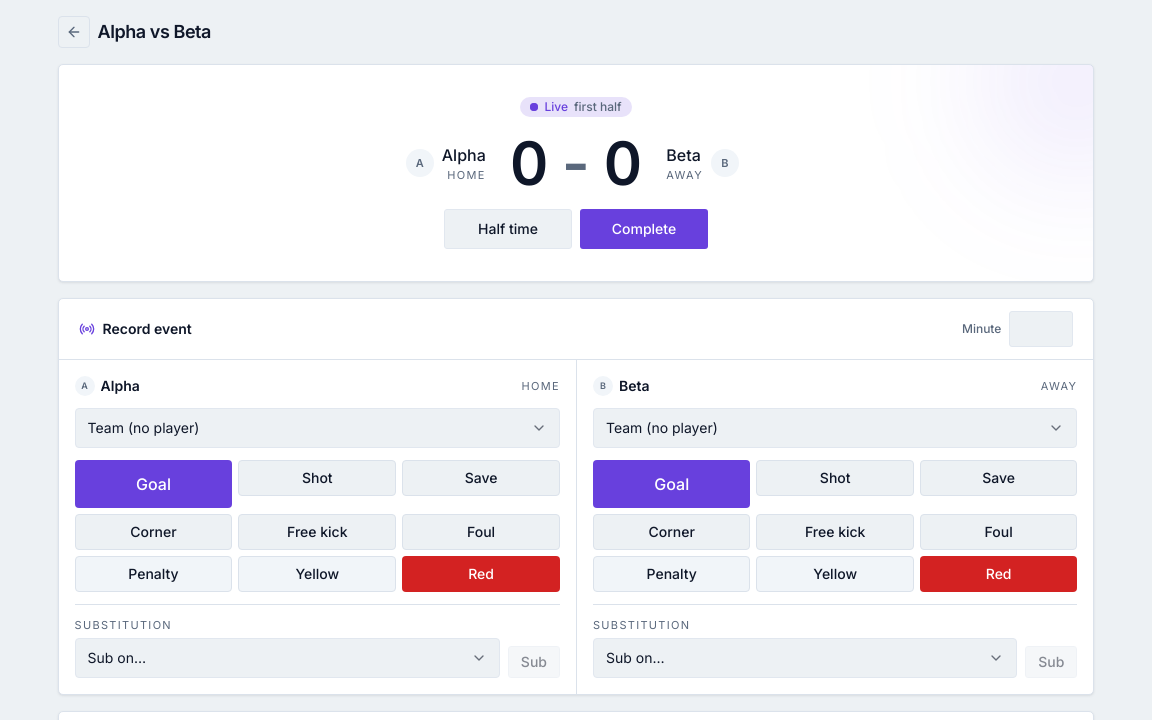
Scenario: MatchConsolePage › surfaces a rejected event as a visible error (no silent failures)
The image size is (1152, 720).
What coordinates should you click on to do the following:
click the 1st button "Goal"
I would click on:
 (154, 484)
Its box is [75, 460, 232, 508].
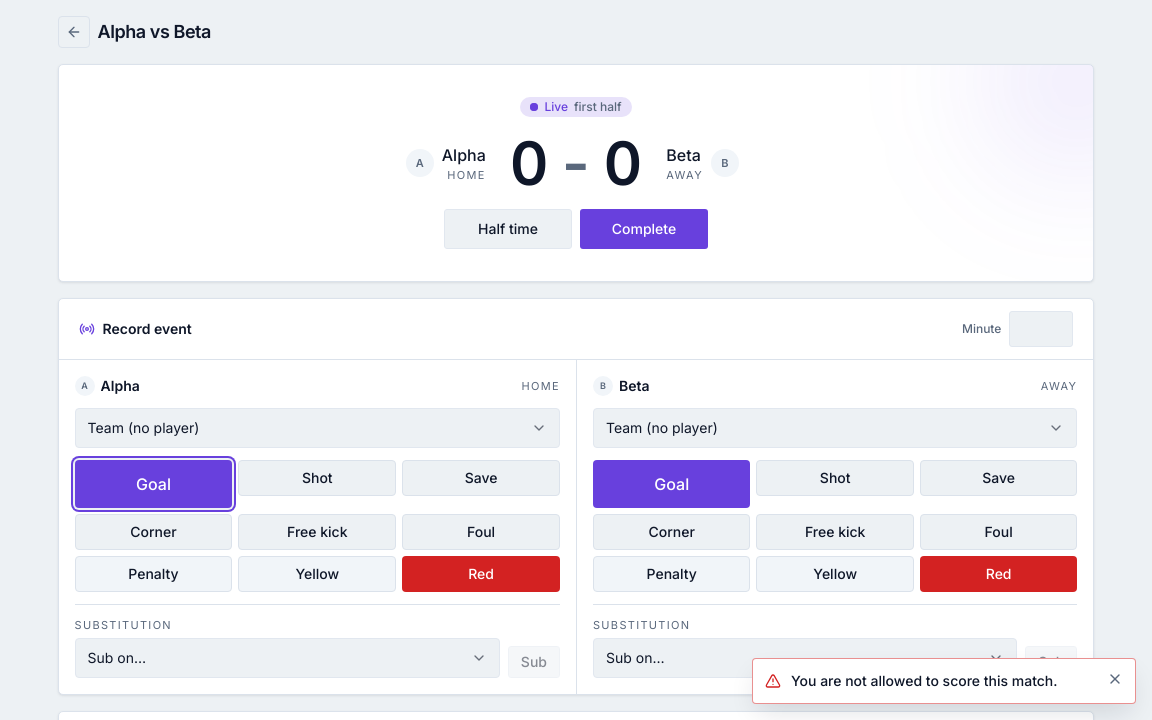
expect the text "You are not allowed to score this match." is shown: met, box [791, 671, 1097, 691]
